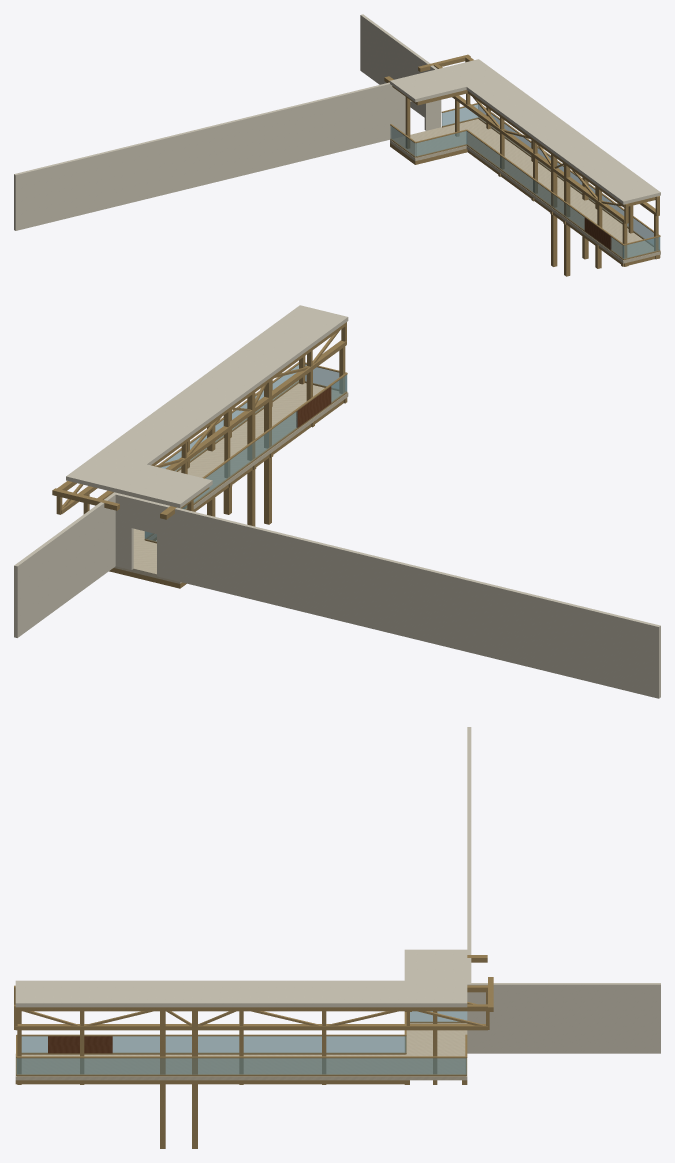
The model's file is STAR_ATLAS_D17_RECEIVING_FIRST_r001.glb.
The picture shows the model from 3 angles, top to bottom: view 1: azimuth 30°, elevation 25°; view 2: azimuth 150°, elevation 25°; view 3: azimuth 270°, elevation 25°; orthographic projection. The views are drawn at different scales.
Visible parts, largest first — view 1: D17R_SouthWallReceived, D17R_ReceivedRoof, D17R_ReceivedFloor, D17R_EastWallReceived, D17R_GuardInnerFore, D17R_TrussLower_0, D17R_GuardOuter, D17R_GuardVestSouth, D17R_D16Pier_01, D17R_D16Pier_00, D17R_TrussUpper_0, D17R_GuardEnd (+2 smaller); view 2: D17R_SouthWallReceived, D17R_ReceivedRoof, D17R_EastWallReceived, D17R_ReceivedFloor, D17R_GuardInnerFore, D17R_TrussLower_0, D17R_D16Pier_00, D17R_D16Pier_01, D17R_TrussUpper_0, D17R_GuardOuter, D17R_HeldRoom823; view 3: D17R_ReceivedRoof, D17R_EastWallReceived, D17R_ReceivedFloor, D17R_GuardOuter, D17R_GuardInnerFore, D17R_TrussLower_1, D17R_TrussUpper_1, D17R_FloorLong_1, D17R_SouthWallReceived, D17R_GuardOuter_Cap, D17R_GuardOuter_Base, D17R_HeldRoom823 (+4 smaller).
Boxes of the visible parts, x1,y1,x2,y2 form: D17R_SouthWallReceived: (14,82,441,230); D17R_ReceivedRoof: (390,59,660,204); D17R_ReceivedFloor: (390,119,660,263); D17R_EastWallReceived: (360,14,441,127); D17R_GuardInnerFore: (466,131,584,230); D17R_TrussLower_0: (452,95,624,223); D17R_GuardOuter: (478,104,660,249); D17R_GuardVestSouth: (416,131,466,156); D17R_D16Pier_01: (564,164,570,276); D17R_D16Pier_00: (551,154,557,266); D17R_TrussUpper_0: (434,64,624,207); D17R_GuardEnd: (623,237,659,258); D17R_SouthWallReceived: (112,492,660,698); D17R_ReceivedRoof: (66,305,348,507); D17R_EastWallReceived: (14,493,115,637); D17R_ReceivedFloor: (114,383,348,583); D17R_GuardInnerFore: (144,411,297,538); D17R_TrussLower_0: (166,340,346,470); D17R_D16Pier_00: (247,392,255,526); D17R_D16Pier_01: (264,380,271,524); D17R_TrussUpper_0: (97,322,346,499); D17R_GuardOuter: (161,365,298,471); D17R_HeldRoom823: (296,386,331,427); D17R_ReceivedRoof: (15,949,467,1007); D17R_EastWallReceived: (467,983,660,1053); D17R_ReceivedFloor: (15,1023,467,1080); D17R_GuardOuter: (17,1058,466,1074); D17R_GuardInnerFore: (112,1036,405,1052); D17R_TrussLower_1: (15,1024,487,1030); D17R_TrussUpper_1: (15,1004,487,1011); D17R_FloorLong_1: (15,1080,404,1084); D17R_SouthWallReceived: (467,727,471,1053); D17R_GuardOuter_Cap: (16,1056,466,1058); D17R_GuardOuter_Base: (17,1074,466,1076); D17R_HeldRoom823: (48,1036,112,1053).
Size of the model in its own units: 37 by 9 by 36.1.
Materials: 6 (4 with a texture image).
